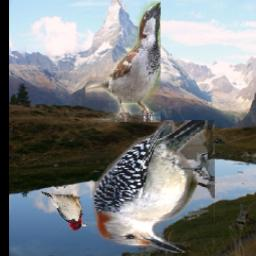Sparrow: (86, 1, 162, 122)
Woodpecker: (92, 121, 215, 254), (40, 192, 88, 232)
